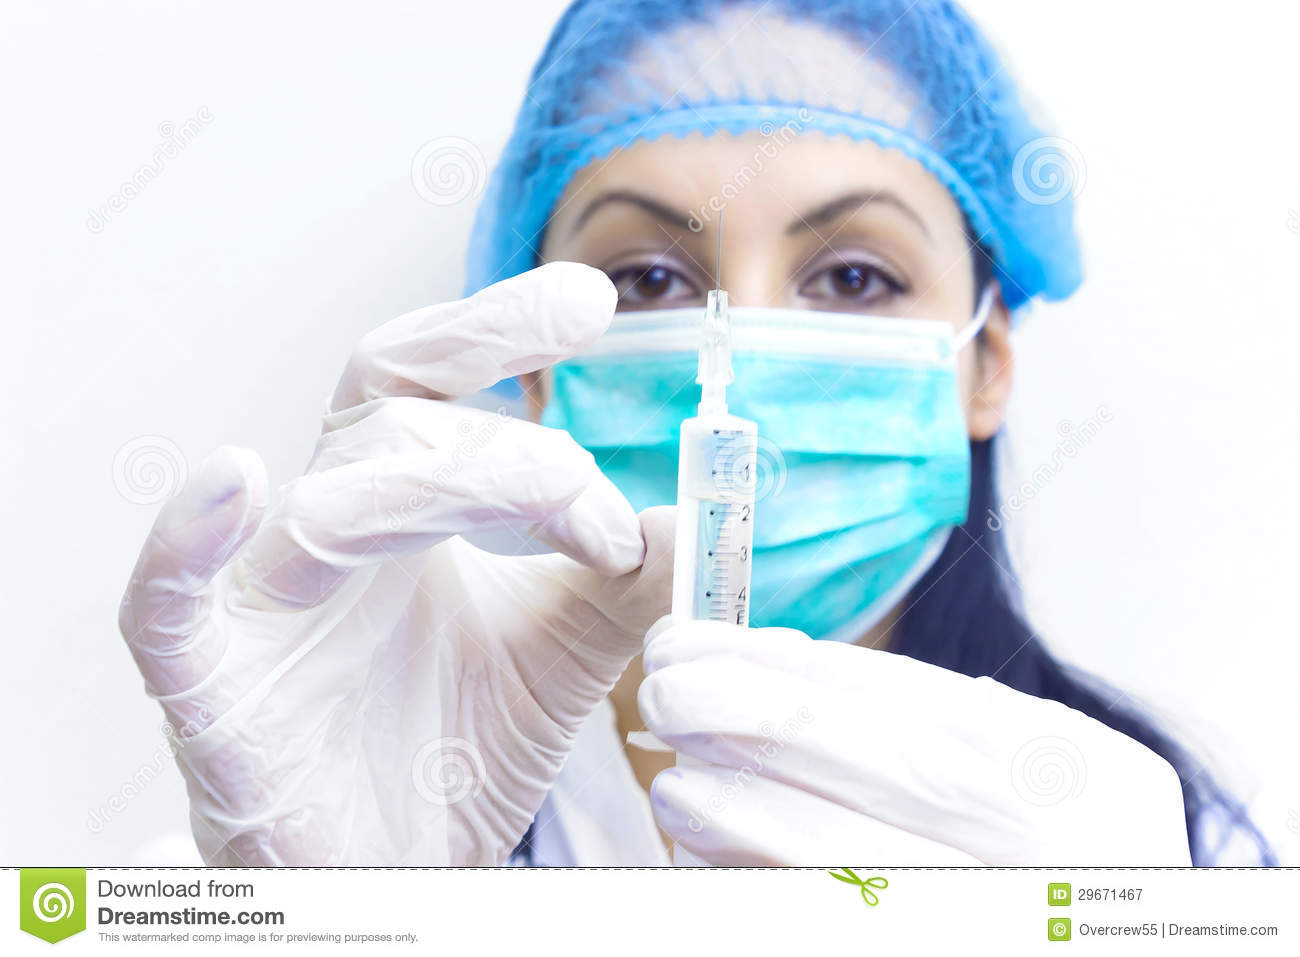mask: (567, 291, 1026, 629)
